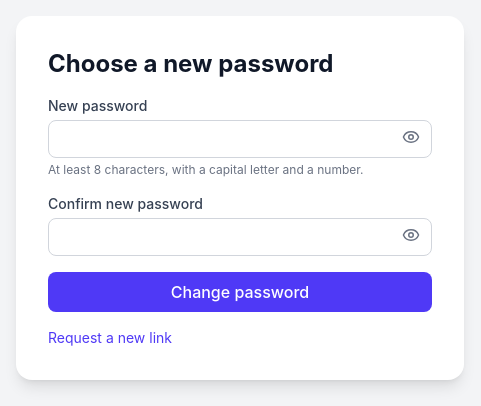
Scenario: ResetPasswordPage › sends the token from the link with the new password
In the password field labelled "New password": (240, 139) [48,120,432,158], type "NewPassword1"
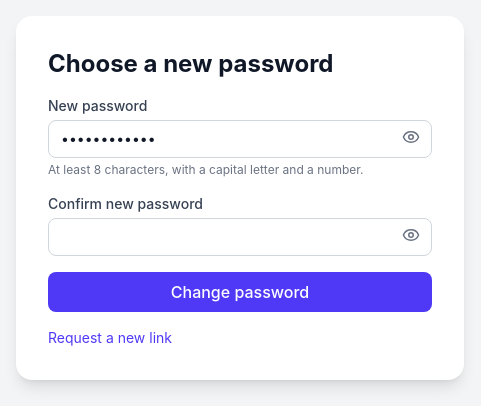
In the password field labelled "Confirm new password": (240, 237) [48,218,432,256], type "NewPassword1"
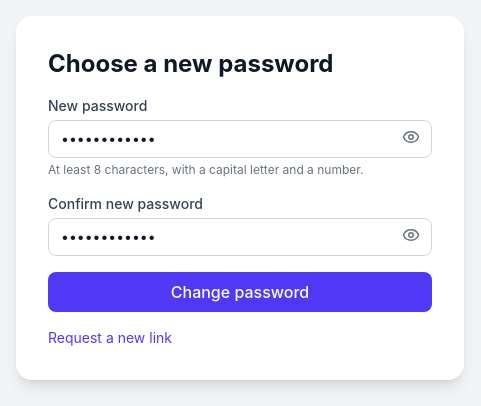
Click the button "Change password": (240, 292) [48,272,432,312]
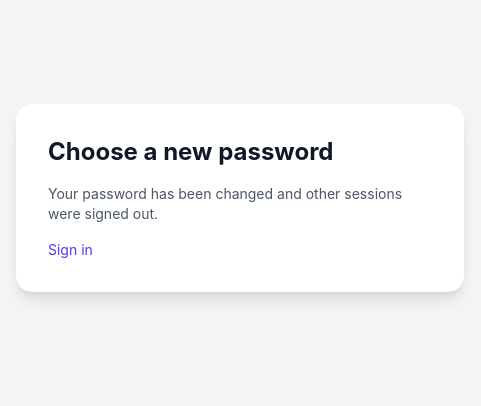
Now the text "password has been changed" is shown, box [48,185,402,222]
